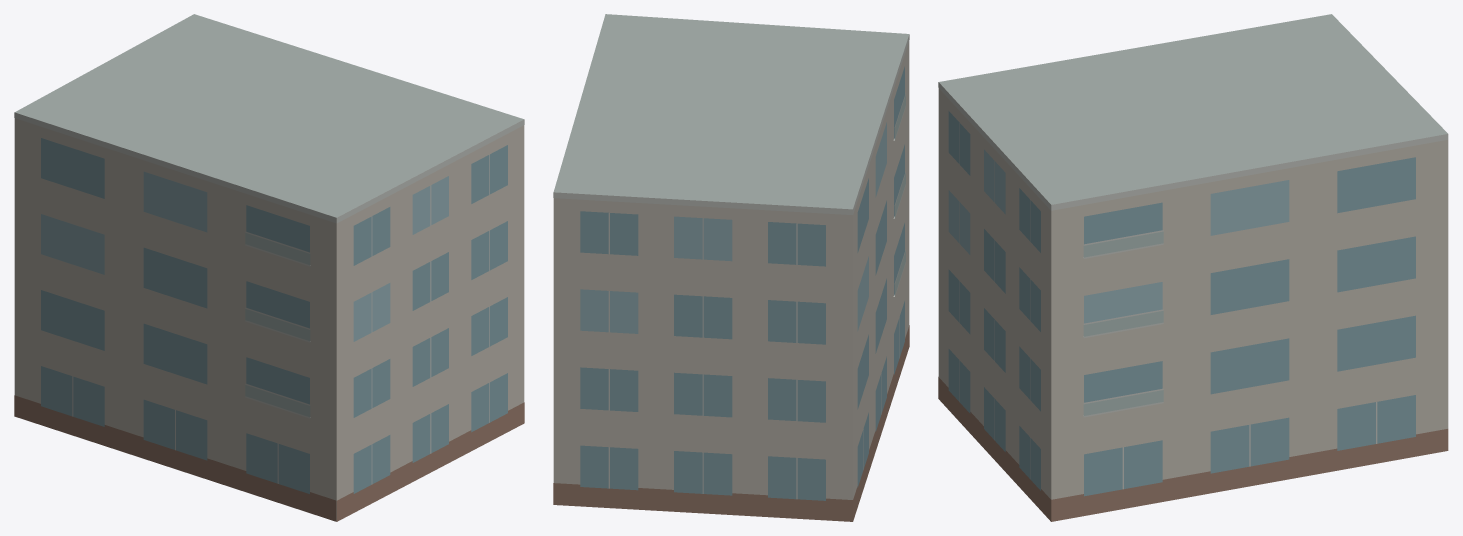
The model's file is survey-upis-32722747.glb.
The picture shows the model from 3 angles, left to right: view 1: azimuth 30°, elevation 25°; view 2: azimuth 150°, elevation 25°; view 3: azimuth 270°, elevation 25°; orthographic projection. The views are drawn at different scales.
Visible parts, largest first — view 1: survey-upis-32722747.tmp; view 2: survey-upis-32722747.tmp; view 3: survey-upis-32722747.tmp.
Part boxes in pixels (box(x1,y1,x2,y2)): survey-upis-32722747.tmp: box(14, 14, 524, 521); survey-upis-32722747.tmp: box(553, 14, 909, 521); survey-upis-32722747.tmp: box(938, 14, 1448, 521).
Size of the model in its own units: 17.06 by 13.2 by 19.25.
